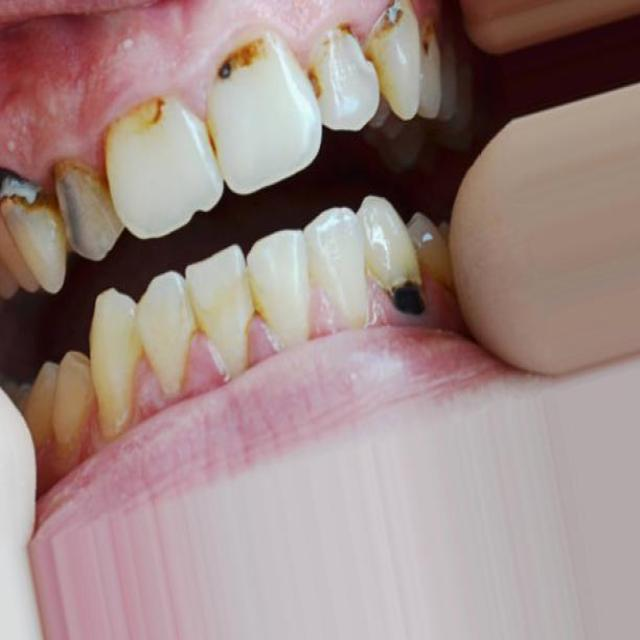caries: (379, 240, 437, 340), (100, 88, 188, 142), (212, 32, 271, 99), (304, 57, 346, 146), (0, 146, 51, 218), (368, 0, 414, 43)
